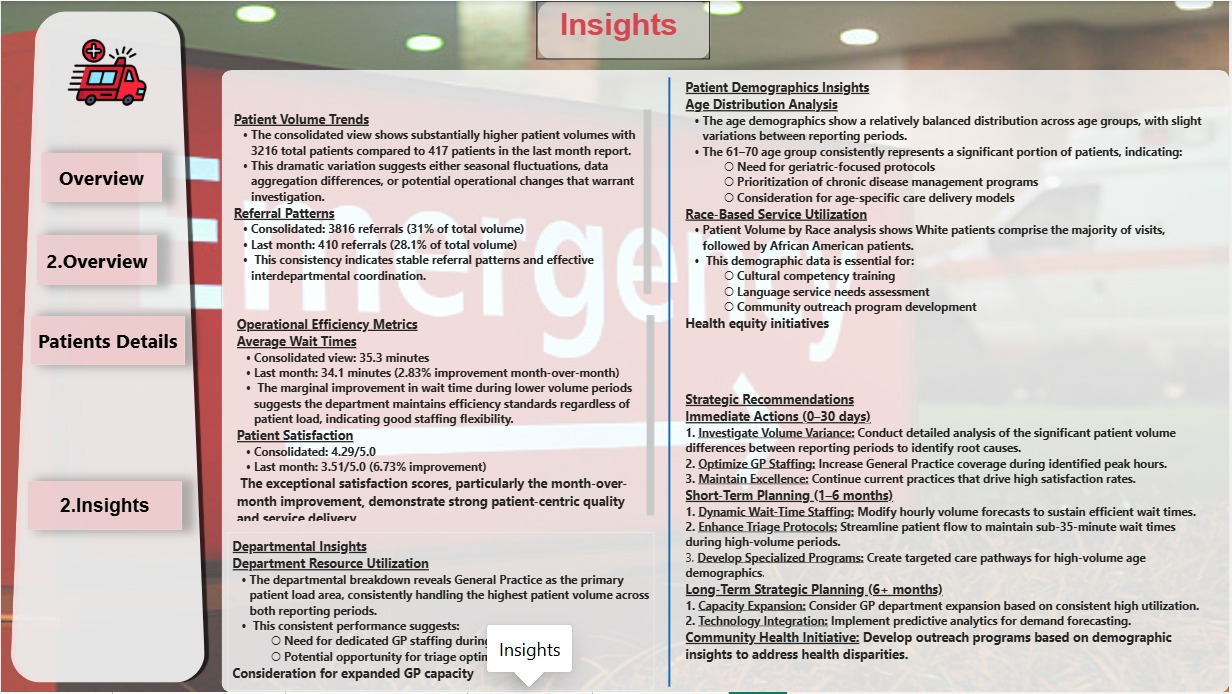

This screenshot's page, from the dashboard's own definition file:
{"tool":"powerbi","page":{"name":"Insights ","canvas":[1280,720],"ordinal":3},"visuals":[{"type":"shape","box":[2.9,4.3,216,711.4],"z":0},{"type":"shape","box":[229.6,71.3,1050.4,648.7],"z":1000},{"type":"shape","box":[687,80,17.4,634.8],"z":2000},{"type":"textbox","box":[236.5,553,445.2,165.2],"z":3000},{"type":"textbox","box":[238.3,107.8,445.2,205.2],"z":4000},{"type":"textbox","box":[240,321.7,445.2,224.3],"z":5000},{"type":"textbox","box":[707.8,400,560,320],"z":6000},{"type":"textbox","box":[707.8,74.8,560,325.2],"z":7000},{"type":"shape","box":[559.1,0,180,60.9],"z":8000},{"type":"textbox","box":[558.3,0,180.9,60.9],"z":9000},{"type":"image","box":[60.5,27.4,99.4,92.2],"z":10000},{"type":"actionButton","title":"2.Overview","box":[38.3,243.5,125.2,52.2],"z":11000},{"type":"actionButton","title":"2.Overview","box":[31.7,328.3,159.8,50.4],"z":12000},{"type":"actionButton","title":"2.Overview","box":[27.8,500.9,160,50.4],"z":13000},{"type":"actionButton","title":"2.Overview","box":[41.7,158.3,125.2,52.2],"z":14000}]}

Visuals, with their boxes on the page's 1280x720 design canvas (x1, y1, x2, y2). These are canvas units, not pixel positions in the 1232x694 screenshot, which may show the page scaled, cropped or inside an application window:
shape: pyautogui.locateOnScreen(3, 4, 219, 716)
shape: pyautogui.locateOnScreen(230, 71, 1280, 720)
shape: pyautogui.locateOnScreen(687, 80, 704, 715)
textbox: pyautogui.locateOnScreen(236, 553, 682, 718)
textbox: pyautogui.locateOnScreen(238, 108, 684, 313)
textbox: pyautogui.locateOnScreen(240, 322, 685, 546)
textbox: pyautogui.locateOnScreen(708, 400, 1268, 720)
textbox: pyautogui.locateOnScreen(708, 75, 1268, 400)
shape: pyautogui.locateOnScreen(559, 0, 739, 61)
textbox: pyautogui.locateOnScreen(558, 0, 739, 61)
image: pyautogui.locateOnScreen(60, 27, 160, 120)
"2.Overview" actionButton: pyautogui.locateOnScreen(38, 244, 164, 296)
"2.Overview" actionButton: pyautogui.locateOnScreen(32, 328, 192, 379)
"2.Overview" actionButton: pyautogui.locateOnScreen(28, 501, 188, 551)
"2.Overview" actionButton: pyautogui.locateOnScreen(42, 158, 167, 210)
